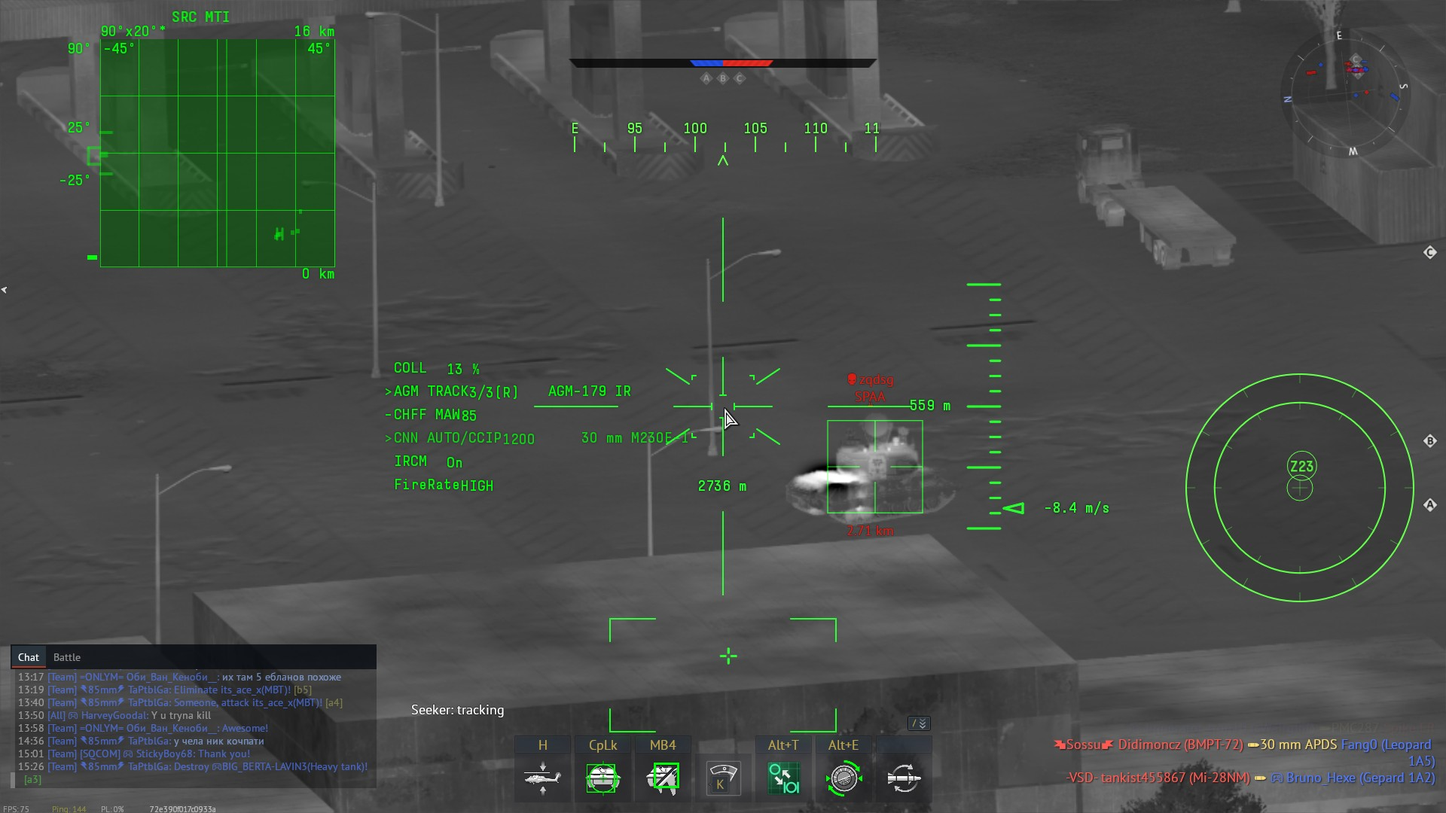spaa_zsu-23: (786, 414, 958, 526)
